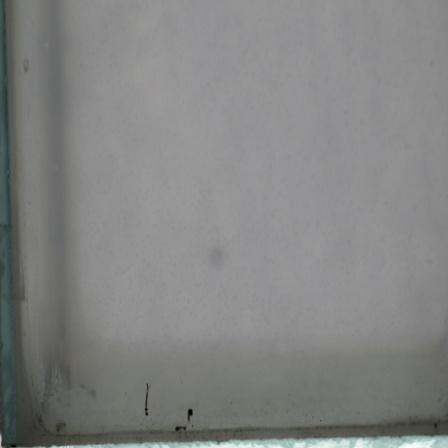Jentik-Nyamuk: (141, 381, 154, 415), (186, 404, 194, 424)
